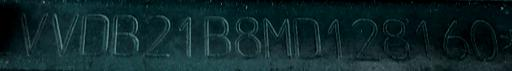letter: (288, 14, 324, 63), (260, 14, 294, 61), (348, 16, 382, 63), (78, 10, 110, 59), (140, 11, 172, 60), (110, 10, 140, 61), (17, 9, 49, 56), (467, 16, 499, 63), (380, 16, 412, 63), (49, 9, 79, 58), (202, 12, 232, 61), (232, 14, 262, 61), (441, 17, 471, 64), (411, 16, 435, 63), (324, 16, 344, 61), (178, 13, 194, 60)
